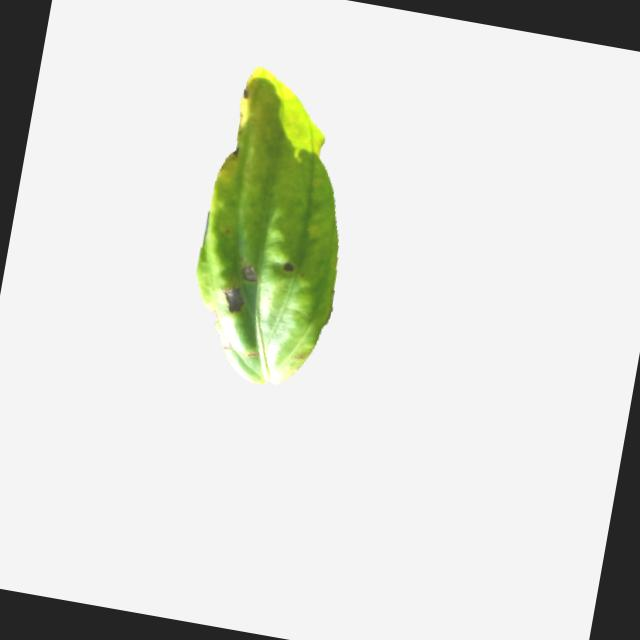yellow-mottle-virus: (162, 59, 374, 402)
